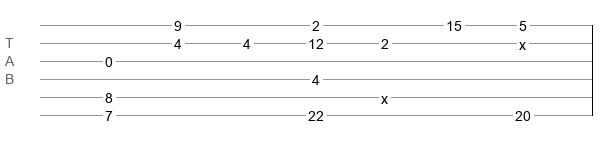0: (105, 54, 113, 64)
12: (308, 36, 324, 46)
15: (446, 18, 462, 28)
2: (312, 18, 320, 28), (381, 36, 389, 46)
20: (515, 108, 531, 118)
22: (308, 108, 324, 118)
4: (174, 36, 182, 46), (243, 36, 251, 46), (312, 72, 320, 82)
5: (519, 18, 527, 28)
7: (105, 108, 113, 118)
8: (105, 90, 113, 100)
9: (174, 18, 182, 28)
x: (381, 91, 388, 99), (519, 37, 526, 45)
